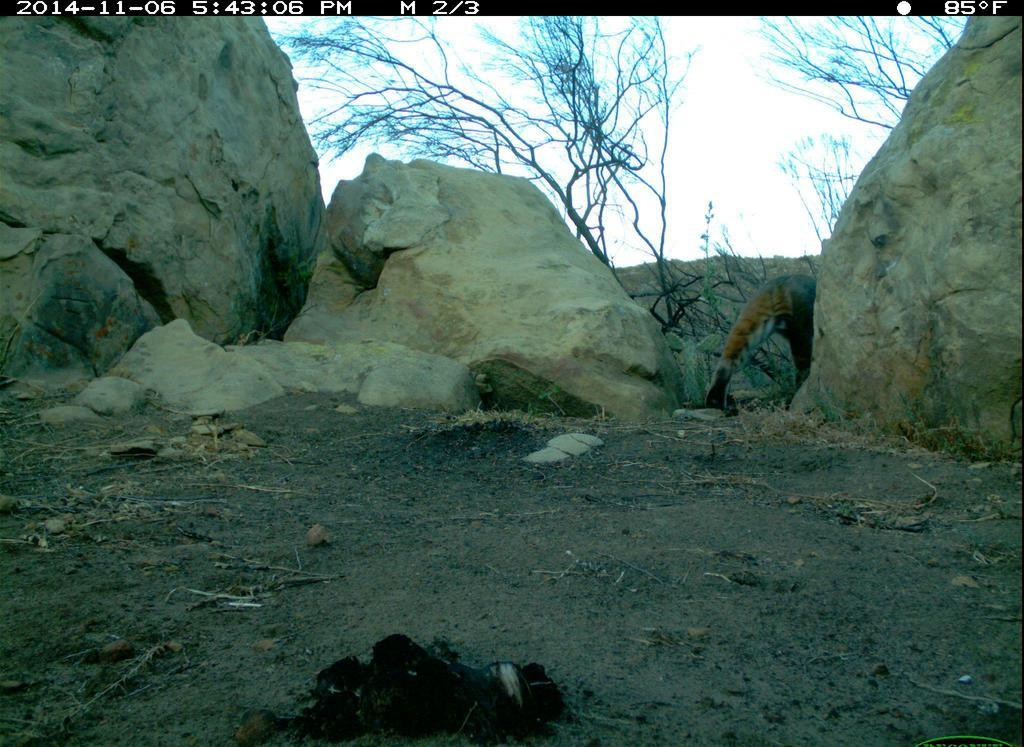bobcat: (687, 265, 826, 419)
